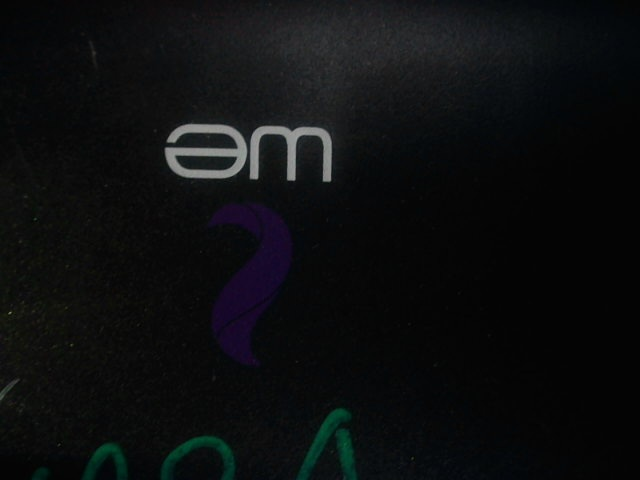AT_We: (156, 113, 357, 368)
